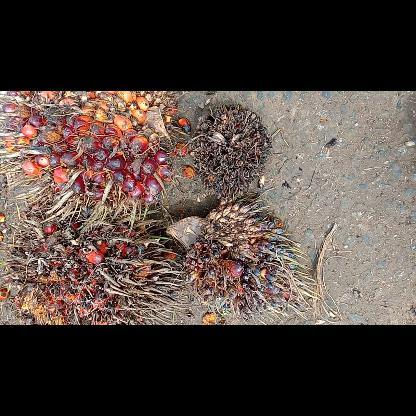TBS abnormal: (165, 197, 325, 323), (188, 102, 274, 200)
TBS masak: (0, 92, 176, 202)
Terlalu masak: (5, 204, 178, 324)
